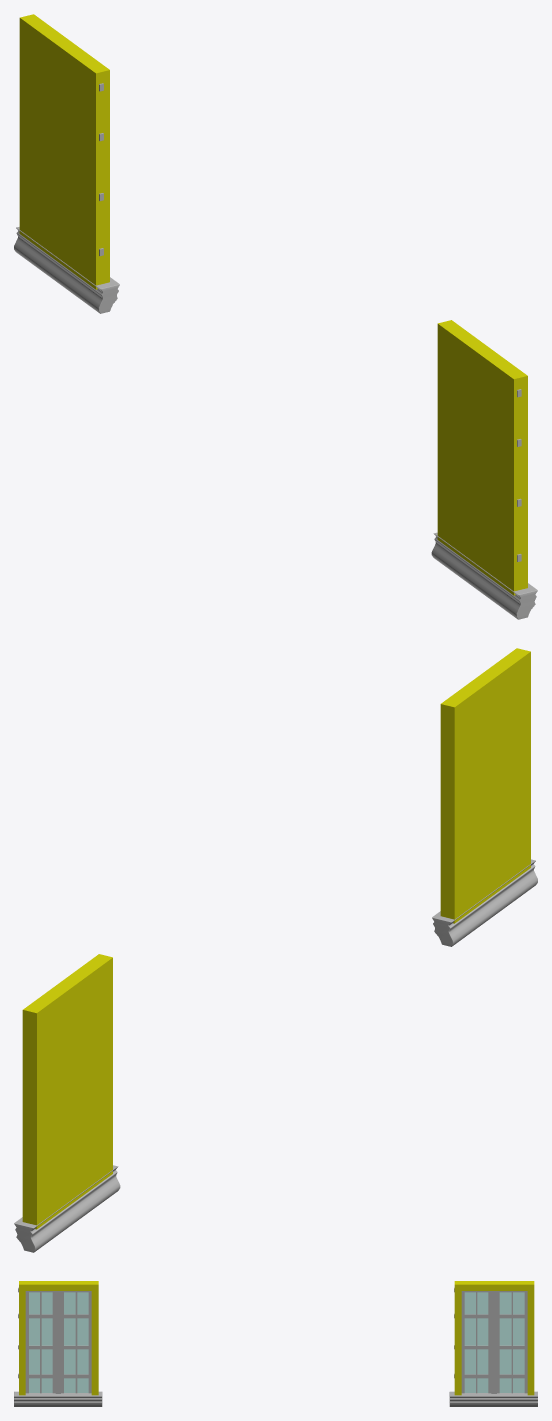
The model's file is Window_DiningRoom01.fbx.
3 renders of one model, top to bottom at view 1: azimuth 30°, elevation 25°; view 2: azimuth 150°, elevation 25°; view 3: azimuth 270°, elevation 25°, orthographic. The views are drawn at different scales.
Visible parts, largest first — view 1: polySurface36_1, polySurface36, pCube231_1, pCube231; view 2: polySurface36, polySurface36_1, pCube231, pCube231_1; view 3: polySurface35, polySurface35_1, polySurface36, polySurface36_1, pCube231, pCube231_1, pCube228, pCube228_1, pCube225_1, pCube230, pCube227_1, pCube225 (+14 smaller).
Boxes of the visible parts, x1,y1,x2,y2 form: polySurface36_1: (437, 320, 527, 595); polySurface36: (19, 14, 109, 289); pCube231_1: (431, 532, 537, 619); pCube231: (14, 227, 119, 313); polySurface36: (22, 954, 112, 1229); polySurface36_1: (440, 648, 530, 923); pCube231: (14, 1165, 120, 1252); pCube231_1: (432, 859, 537, 946); polySurface35: (464, 1292, 524, 1392); polySurface35_1: (29, 1292, 88, 1392); polySurface36: (454, 1281, 534, 1395); polySurface36_1: (19, 1281, 98, 1395); pCube231: (449, 1391, 537, 1406); pCube231_1: (14, 1391, 102, 1406); pCube228: (491, 1291, 496, 1393); pCube228_1: (55, 1291, 60, 1393); pCube225_1: (88, 1291, 91, 1393); pCube230: (461, 1291, 464, 1393); pCube227_1: (52, 1291, 55, 1393); pCube225: (524, 1291, 527, 1393).
Bounding box in the file's own units: 0.4652 × 4.83 × 18.53.
